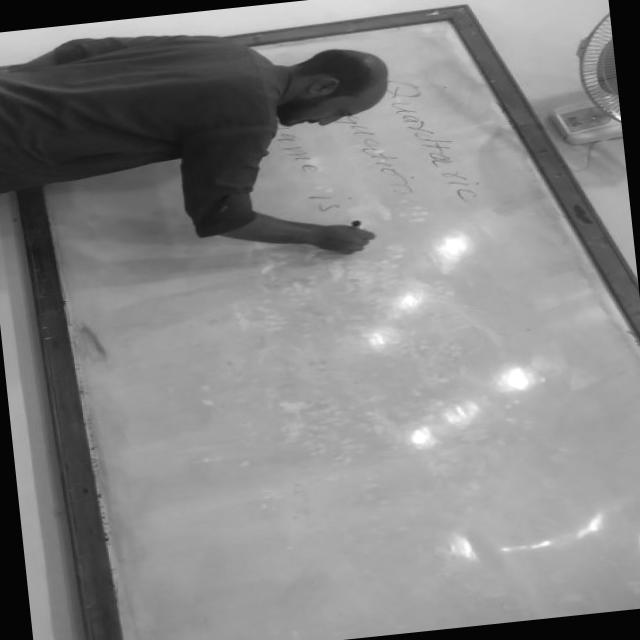Instructor: (0, 7, 424, 180)
White-board: (1, 13, 640, 640)
